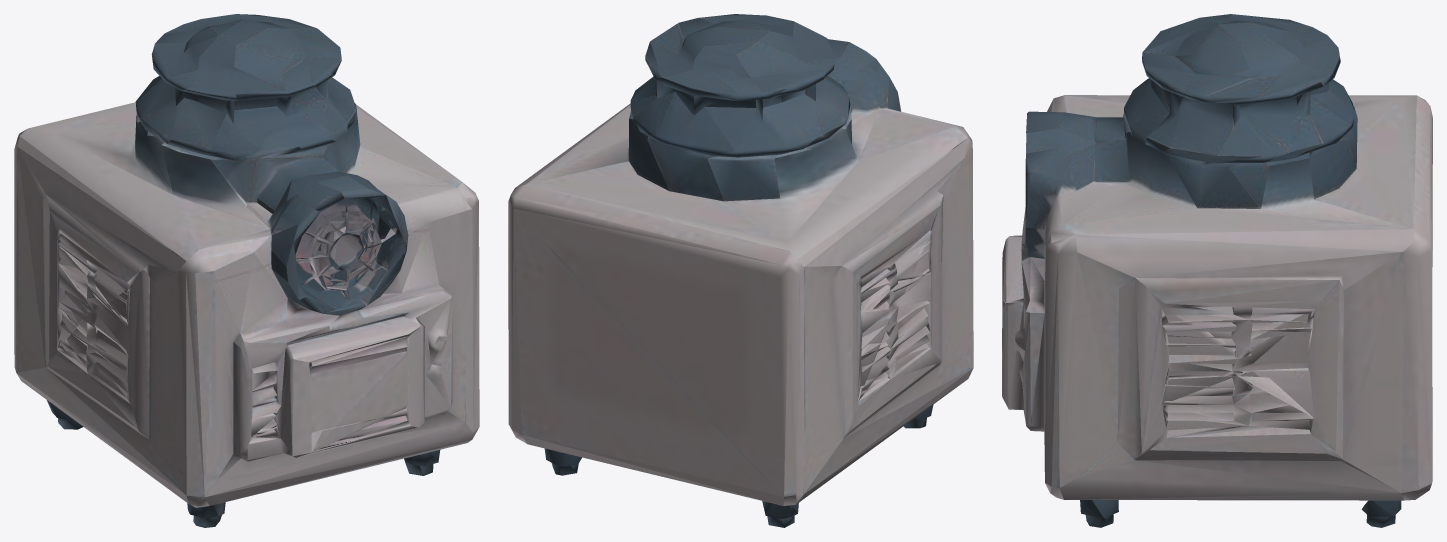
Rendered from deco_ventilation.glb.
3 views of the same model, side by side, from view 1: azimuth 30°, elevation 25°; view 2: azimuth 150°, elevation 25°; view 3: azimuth 270°, elevation 25° (orthographic). The views are drawn at different scales.
Visible parts, largest first — view 1: mesh_node; view 2: mesh_node; view 3: mesh_node.
Part boxes in pixels (box(x1,y1,x2,y2)): mesh_node: box(14, 14, 479, 527); mesh_node: box(508, 14, 973, 527); mesh_node: box(1002, 14, 1432, 527).
Size of the model in its own units: 1.48 by 1.9 by 1.71.
Materials: 1 (1 with a texture image).
